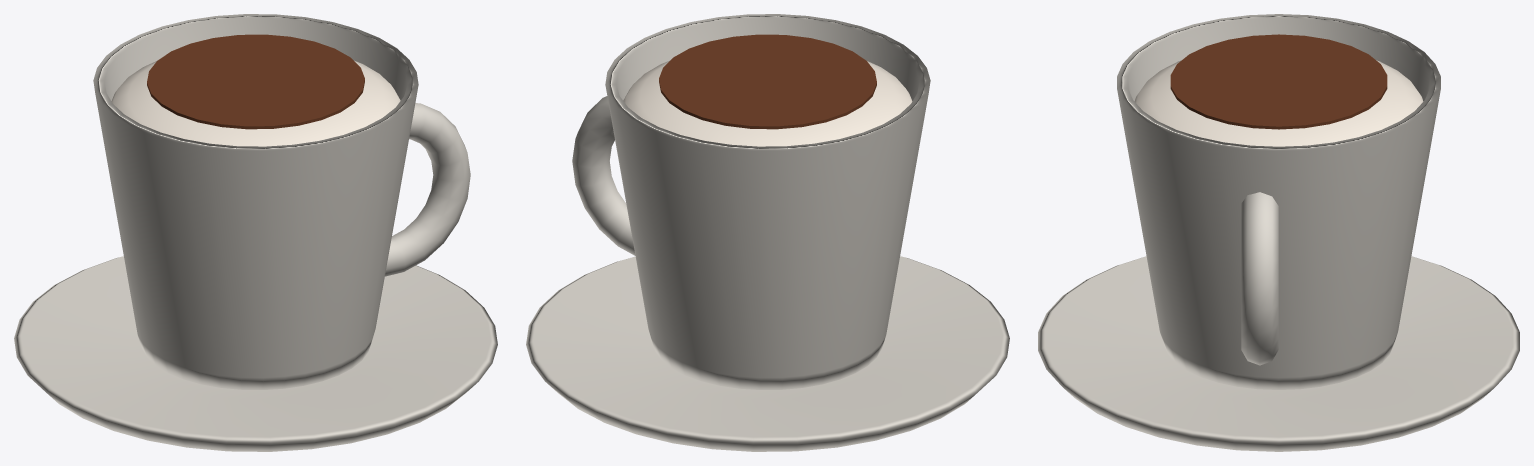
The model's file is cappuccino.glb.
3 renders of one model, left to right at view 1: azimuth 30°, elevation 25°; view 2: azimuth 150°, elevation 25°; view 3: azimuth 270°, elevation 25°, orthographic.
Parts seen in each view (by area): view 1: cappuccino; view 2: cappuccino; view 3: cappuccino.
Part boxes in pixels (<box>): cappuccino: <box>14,14,497,451</box>; cappuccino: <box>526,14,1009,451</box>; cappuccino: <box>1038,14,1519,451</box>.
Bounding box in the file's own units: 0.122 × 0.0771 × 0.1215.
